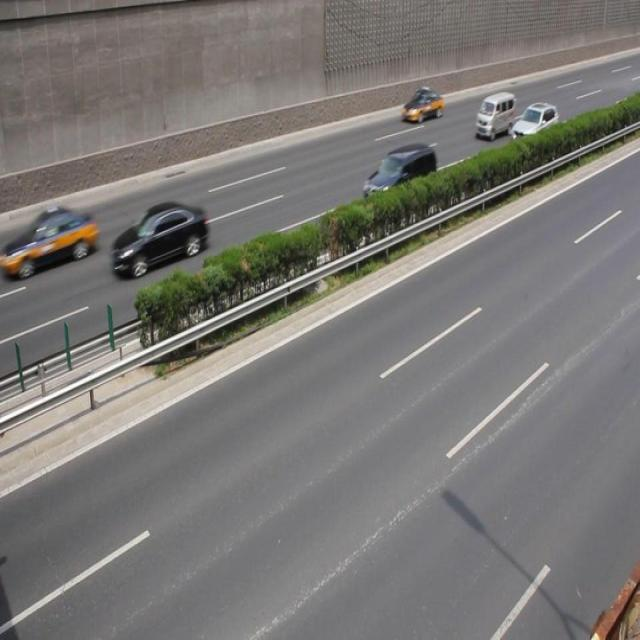car: (110, 198, 208, 278), (0, 204, 100, 278), (363, 143, 436, 215), (508, 100, 556, 150), (401, 90, 442, 122)
truck: (476, 92, 513, 136)
